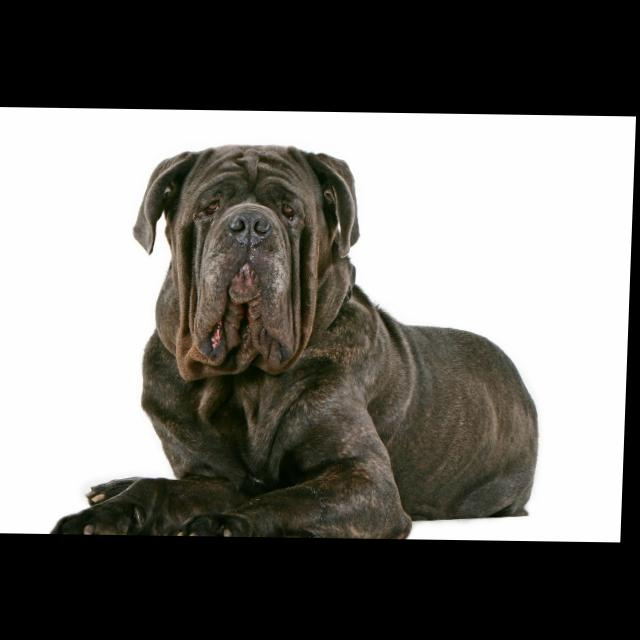mastino_napoletano: (51, 141, 553, 540)
